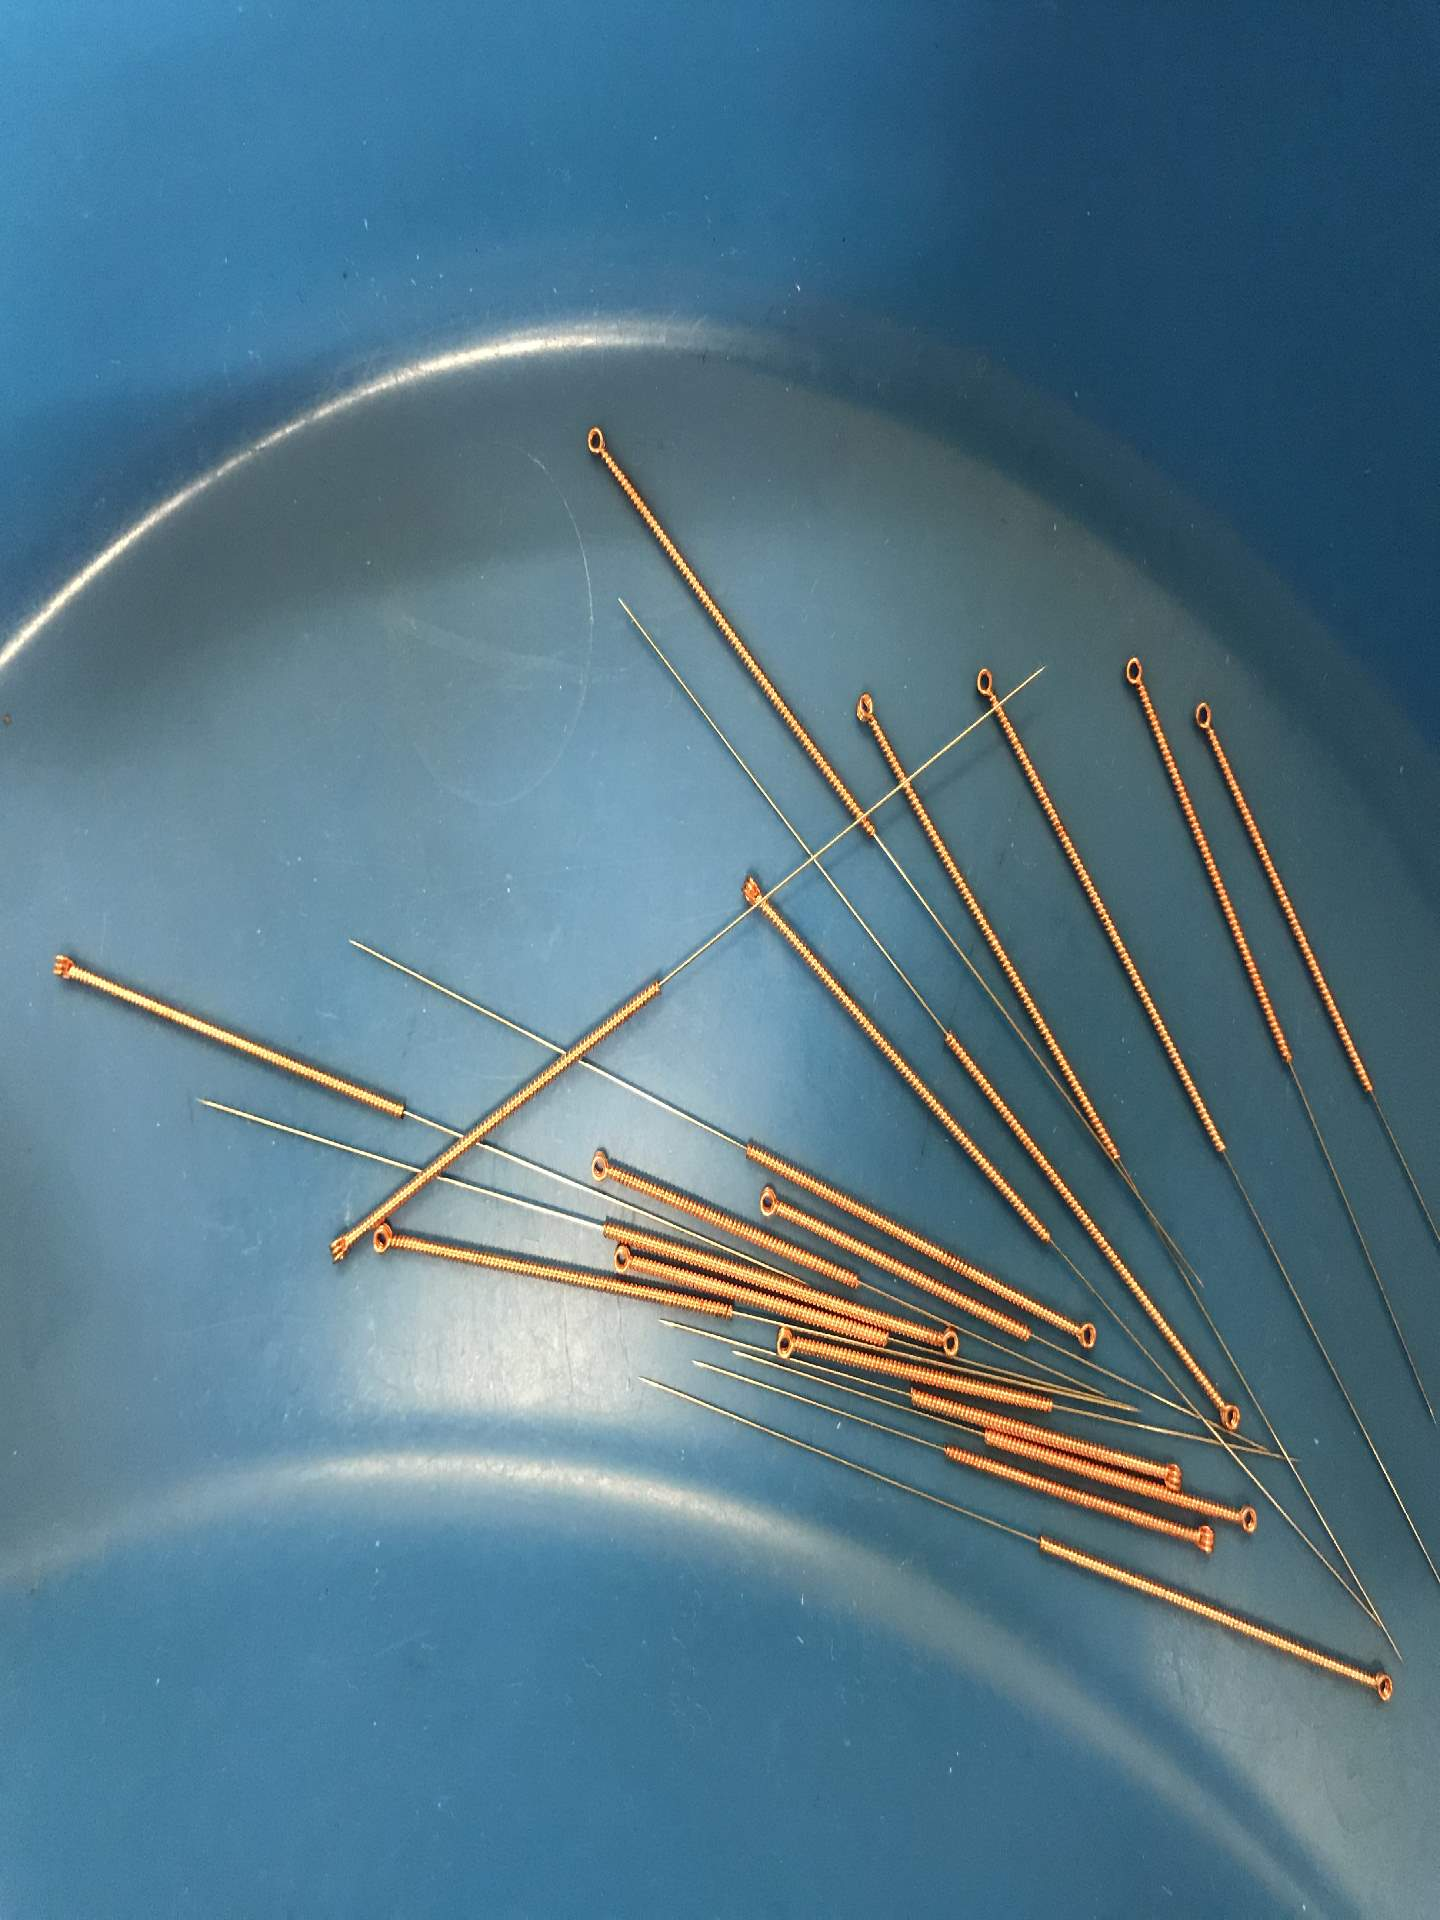needle: (39, 943, 88, 993), (576, 417, 617, 467), (749, 1181, 793, 1226), (1181, 1518, 1227, 1562), (847, 683, 883, 735), (1065, 1312, 1106, 1356), (1363, 1665, 1404, 1708), (319, 1225, 357, 1271), (1227, 1497, 1265, 1544), (585, 1144, 625, 1188), (1116, 649, 1151, 697), (1187, 692, 1221, 741), (1212, 1391, 1246, 1436), (767, 1324, 805, 1365), (735, 871, 771, 913), (929, 1323, 967, 1361), (971, 662, 1001, 705), (371, 1222, 402, 1259), (605, 1243, 641, 1274), (1159, 1457, 1187, 1495)
